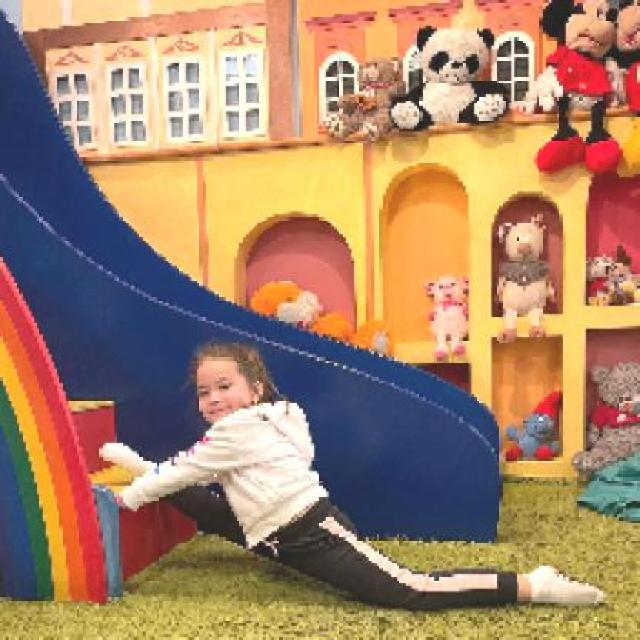child: (100, 343, 606, 608)
